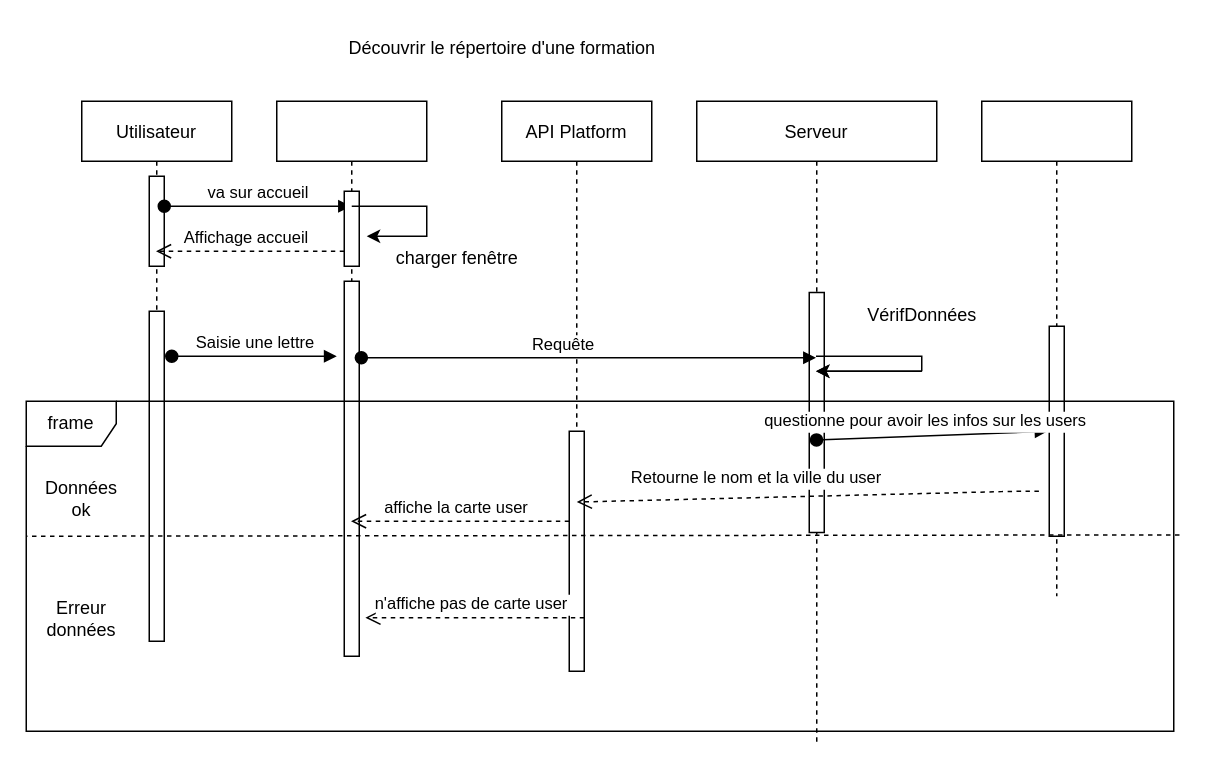
Image size: 1208x773. Some labels were removed from this diagram. Each missing label, with the box of its shape:
Base de Données: (980, 100, 1132, 596)
Navigateur: (275, 100, 427, 656)
